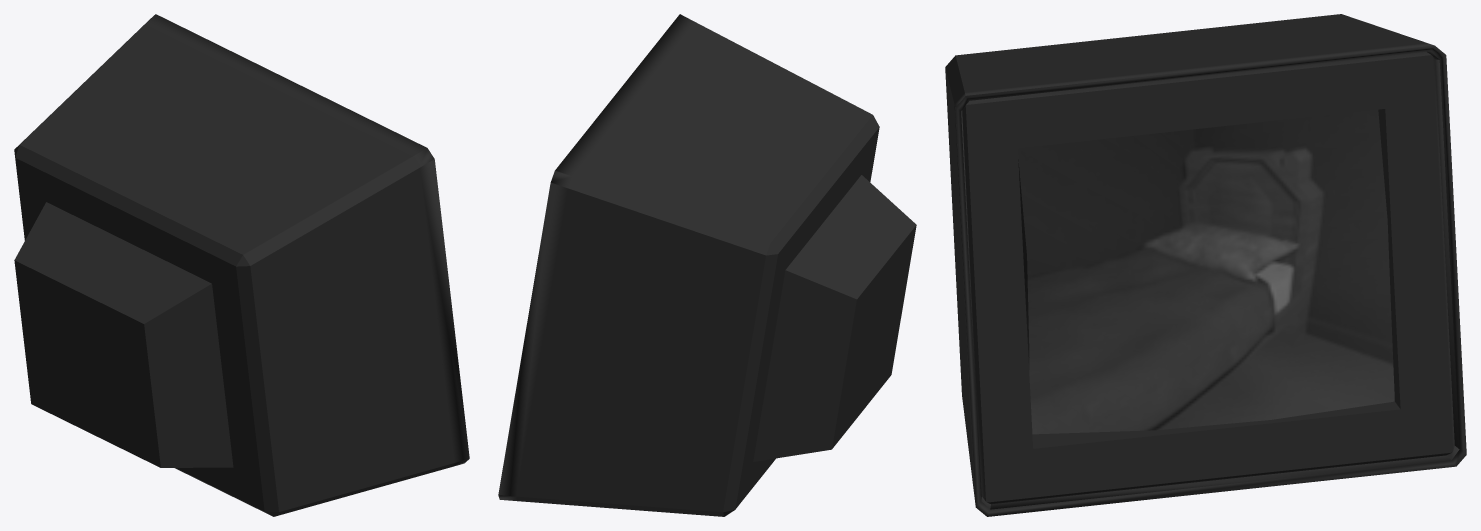
File: Tele3.fbx
3 renders of one model, left to right at view 1: azimuth 30°, elevation 25°; view 2: azimuth 150°, elevation 25°; view 3: azimuth 270°, elevation 25°, orthographic. The views are drawn at different scales.
Parts seen in each view (by area): view 1: Tele; view 2: Tele; view 3: Tele.
Part boxes in pixels (x1=…): Tele: x1=14, y1=14, x2=469, y2=516; Tele: x1=498, y1=14, x2=916, y2=516; Tele: x1=945, y1=14, x2=1466, y2=516.
Bounding box in the file's own units: 53.9 × 51.49 × 60.26.
